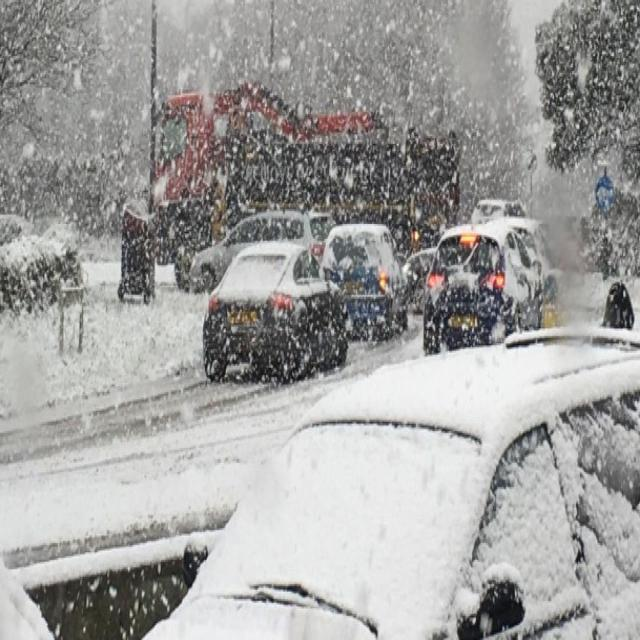bus: (151, 93, 397, 271)
car: (46, 326, 640, 633), (200, 241, 348, 386), (420, 217, 550, 354), (184, 210, 326, 290), (319, 226, 405, 338)
